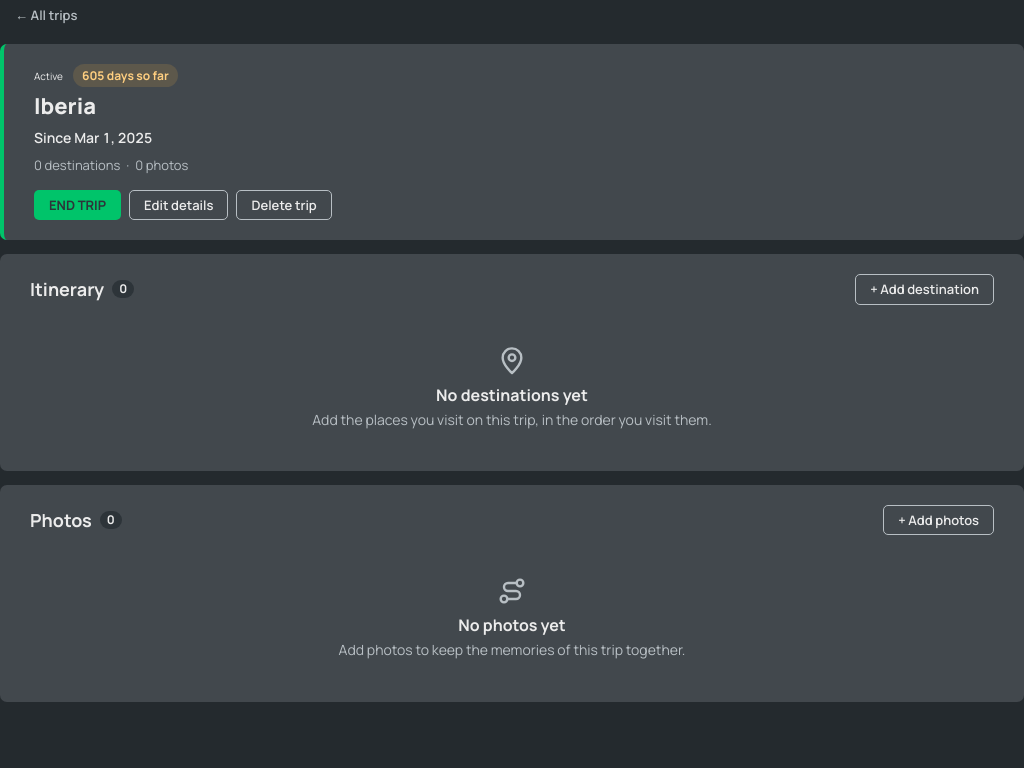
End trip › defaults to today and ends the trip
The image size is (1024, 768).
Click the button "End trip": (78, 205) [34,190,121,220]
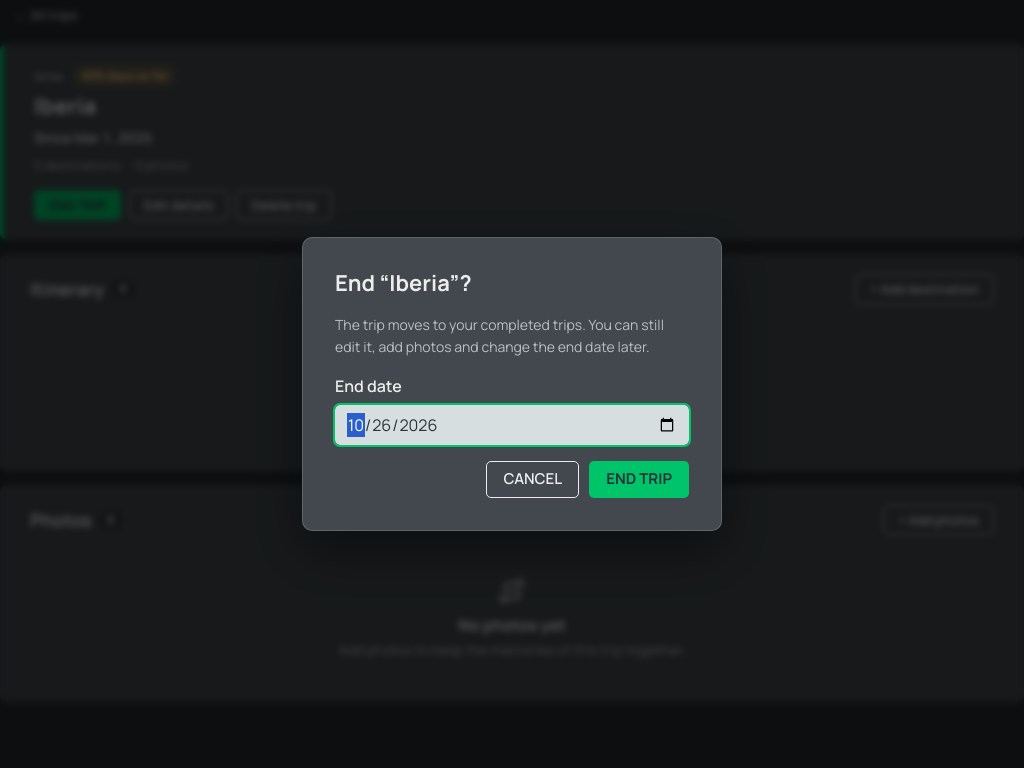
Click the button "End trip": (639, 480) [589,461,689,498]
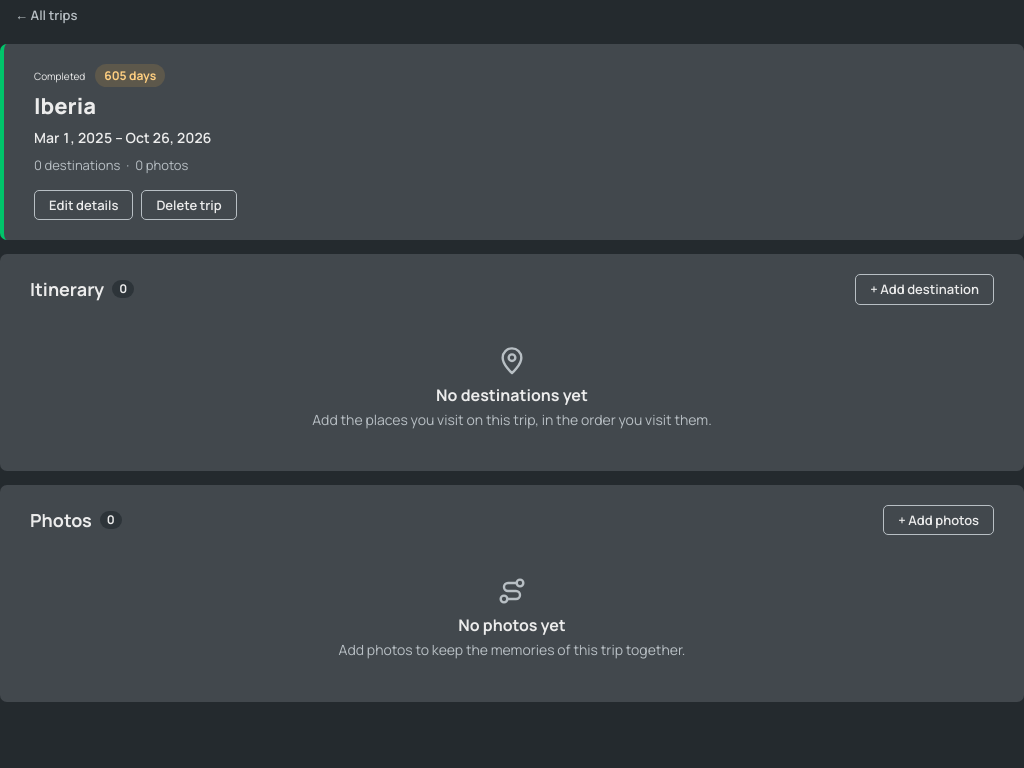
Expected: the text "Completed" is shown, [34,68,85,84]
